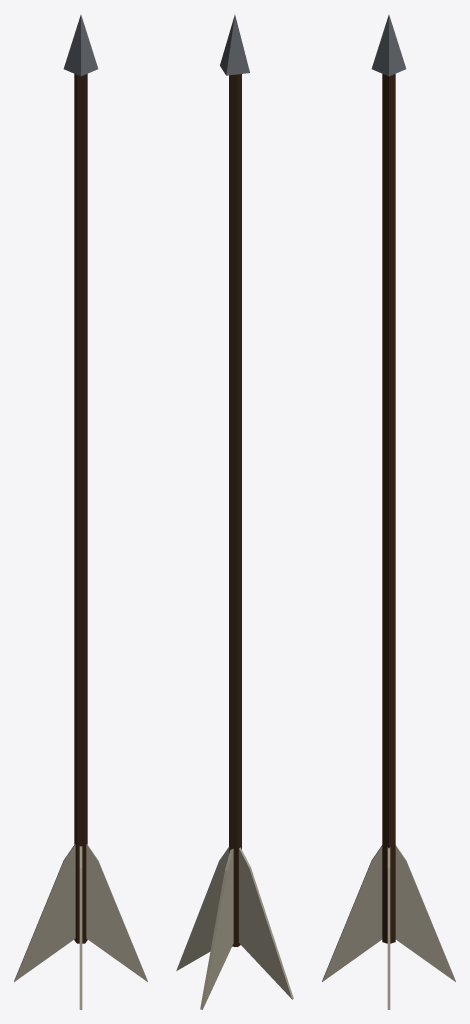
3 views of the same model, side by side, from view 1: azimuth 90°, elevation 25°; view 2: azimuth 150°, elevation 25°; view 3: azimuth 270°, elevation 25° (orthographic).
Visible parts, largest first — view 1: SM_Arrow_01_LOD0; view 2: SM_Arrow_01_LOD0; view 3: SM_Arrow_01_LOD0.
Part boxes in pixels (x1,y1,x2,y2): SM_Arrow_01_LOD0: (14, 15, 147, 1009); SM_Arrow_01_LOD0: (176, 15, 293, 1009); SM_Arrow_01_LOD0: (322, 15, 455, 1009).
Size of the model in its own units: 0.1413 by 1.13 by 0.1413.
